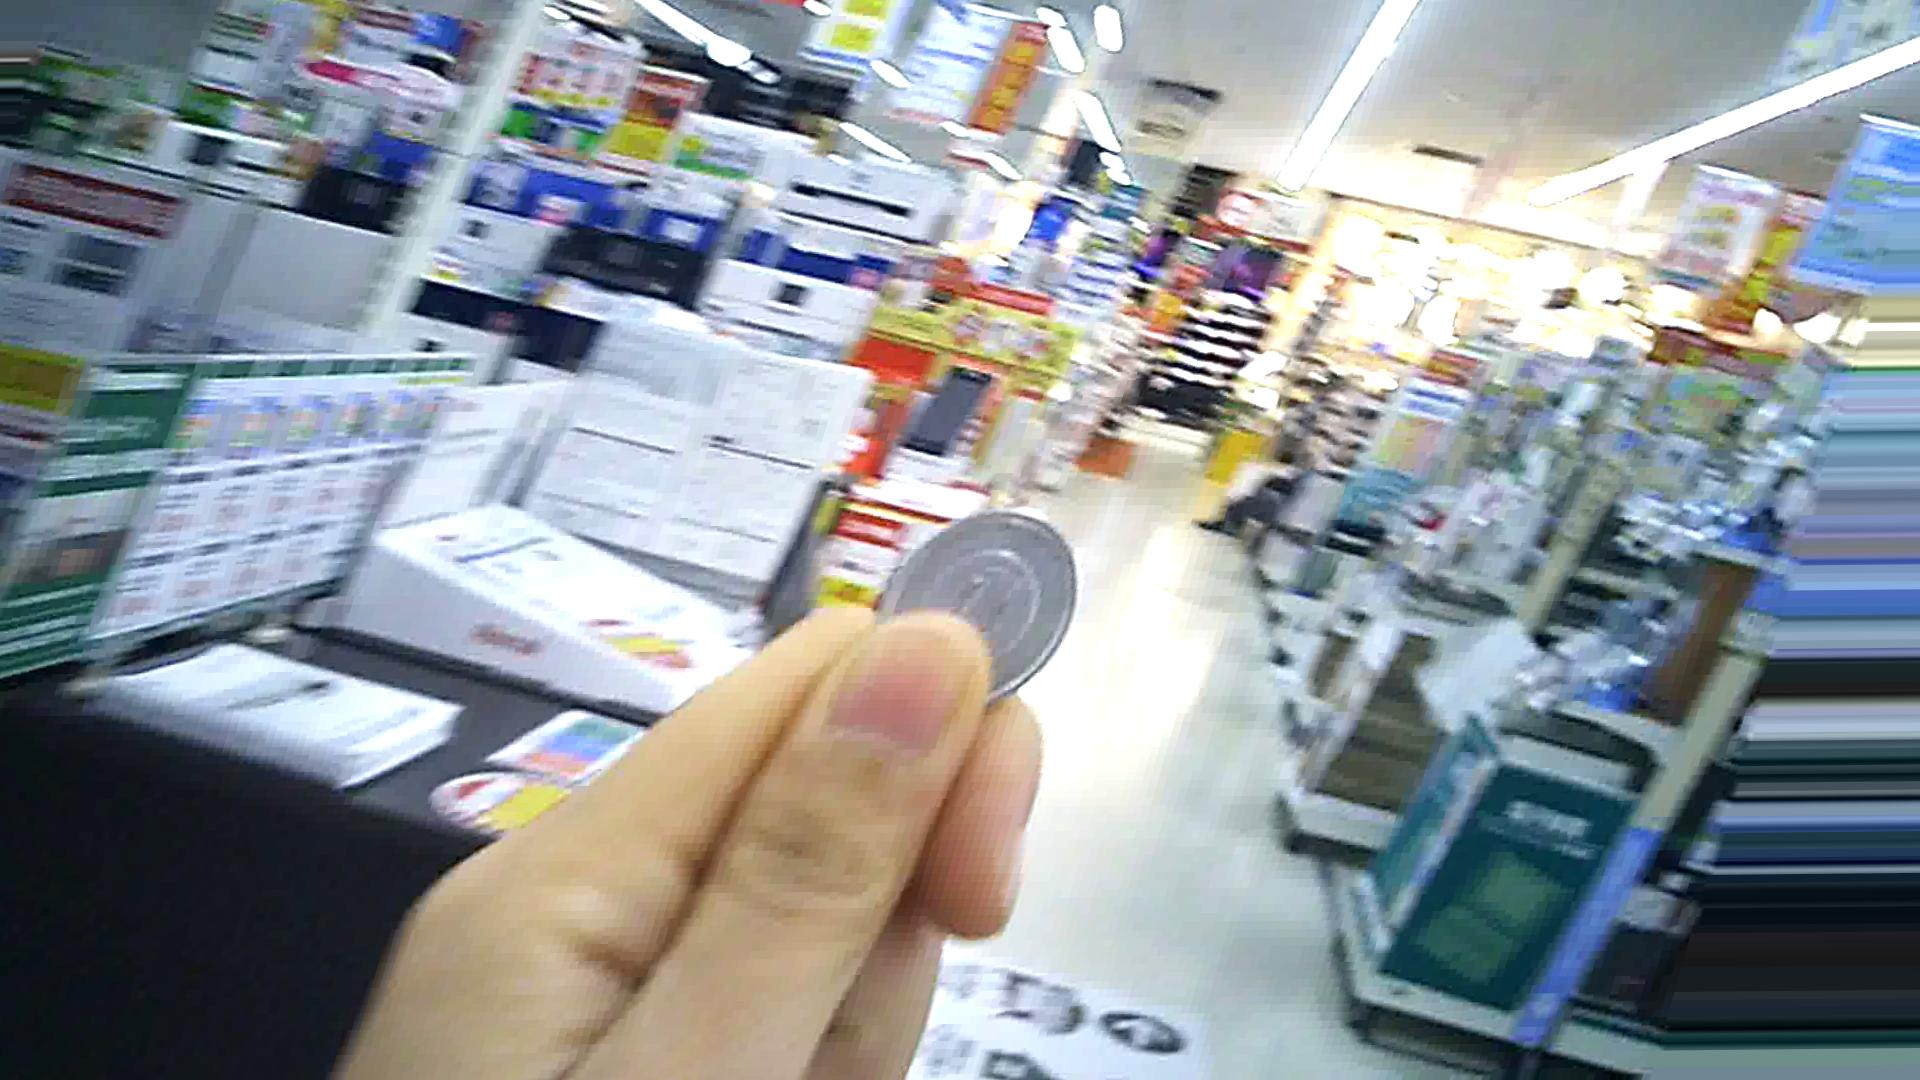1 Yen: (851, 502, 1077, 711)
